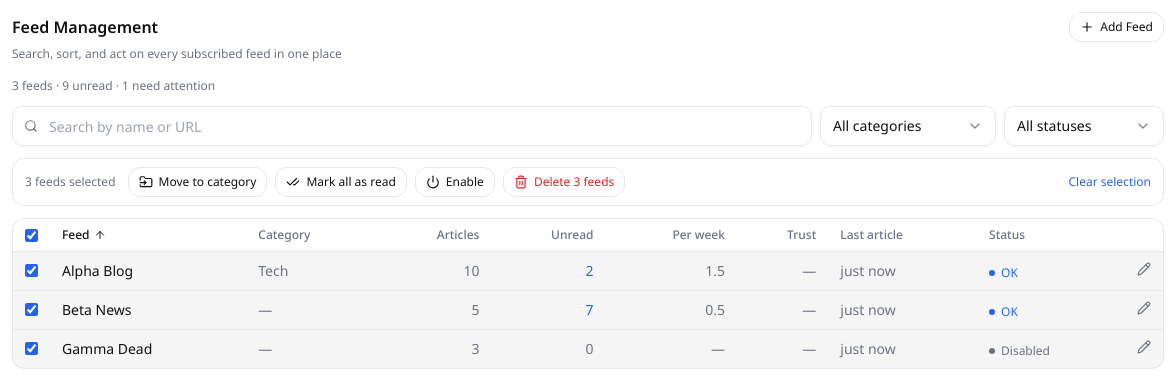
Test: FeedManagementSection › filters feeds by name or URL
In the field labelled "Search by name or URL": (412, 126) [12,106,812,146], type "beta"
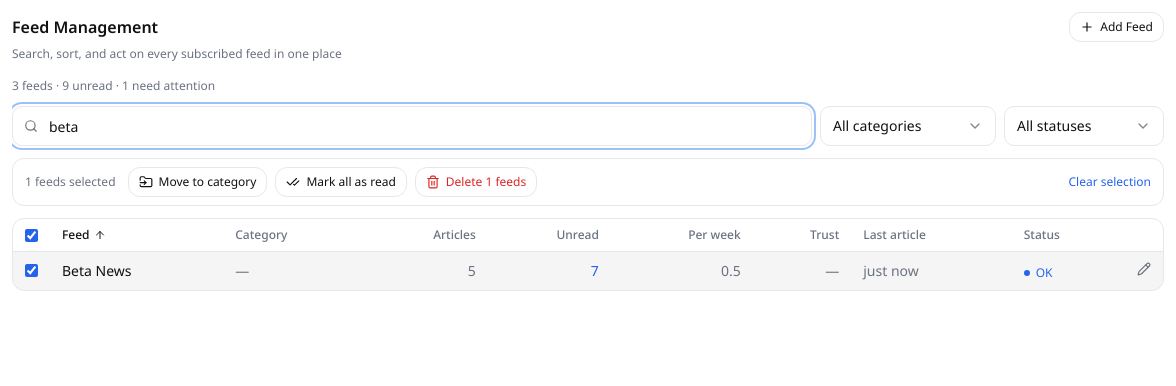
Expected: the link "Beta News" is shown, [62,261,132,280]
Result: the link "Alpha Blog" is gone
Result: the link "Gamma Dead" is gone
